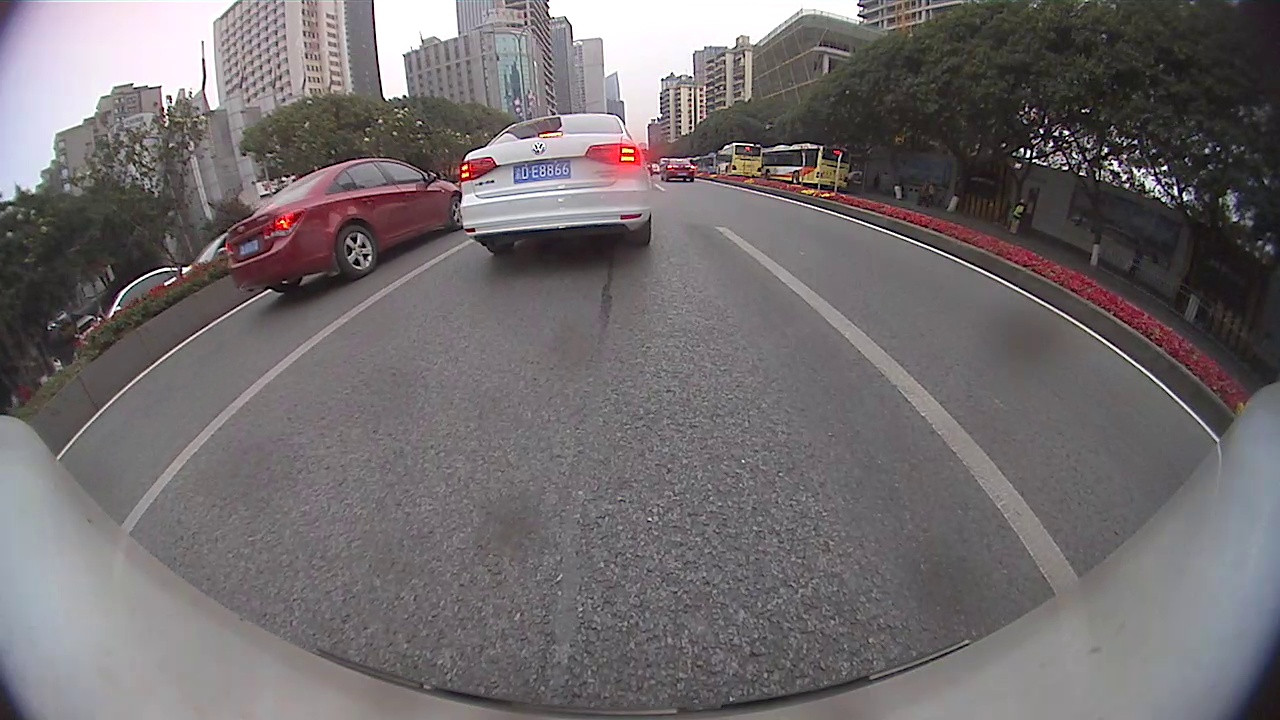bus: (761, 144, 853, 188), (714, 143, 762, 178)
car: (224, 155, 461, 296), (458, 111, 655, 262), (106, 262, 193, 320), (192, 229, 239, 267), (658, 155, 698, 184), (72, 313, 102, 343)
front: (448, 191, 464, 230)
rear: (336, 224, 378, 276)
